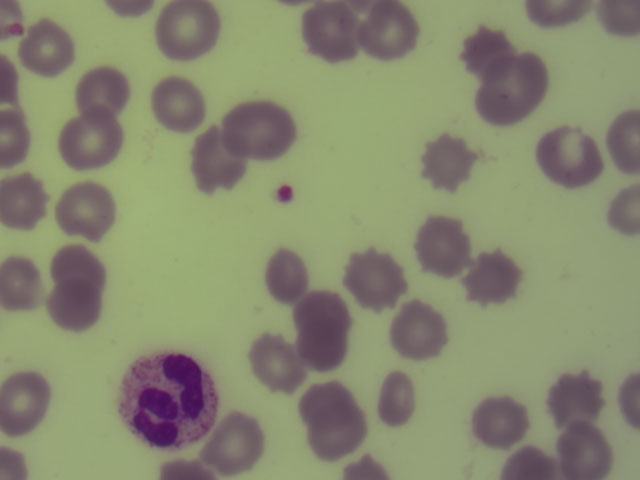Platelets: (276, 186, 291, 201)
RBC: (223, 99, 295, 158), (343, 246, 405, 309), (242, 329, 305, 390), (537, 127, 601, 186), (156, 1, 220, 57), (189, 122, 245, 186), (56, 117, 126, 168), (56, 182, 117, 239), (416, 217, 474, 276), (388, 298, 448, 355), (361, 1, 421, 56), (152, 75, 206, 134), (20, 20, 78, 74), (299, 2, 355, 57), (1, 372, 53, 430), (467, 256, 521, 308), (557, 428, 611, 480), (547, 369, 601, 421), (473, 395, 527, 447), (299, 373, 353, 425), (309, 405, 363, 457), (207, 415, 261, 467), (464, 84, 521, 132), (372, 372, 424, 423), (1, 173, 48, 228), (421, 140, 472, 187), (462, 24, 513, 71), (76, 66, 127, 113), (53, 242, 104, 289), (48, 281, 99, 328), (263, 248, 314, 295), (1, 260, 51, 307), (607, 110, 640, 171), (521, 1, 588, 31), (597, 1, 640, 46), (504, 443, 552, 480), (1, 112, 32, 162), (612, 374, 640, 424), (611, 187, 640, 235), (342, 455, 395, 480), (163, 457, 212, 480), (1, 58, 23, 107), (106, 1, 158, 20), (1, 446, 30, 480)
WBC: (117, 357, 222, 447)
